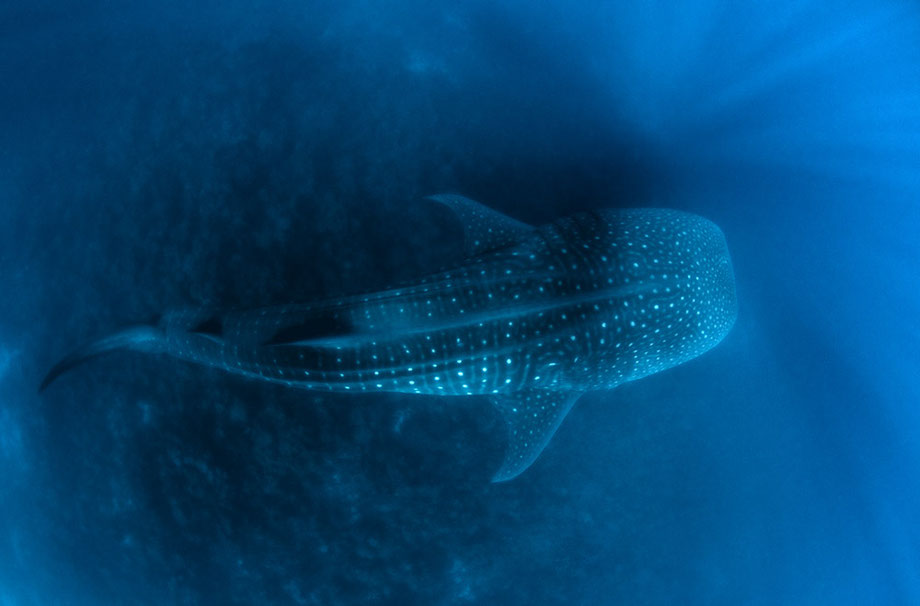shark: (1, 178, 752, 490)
